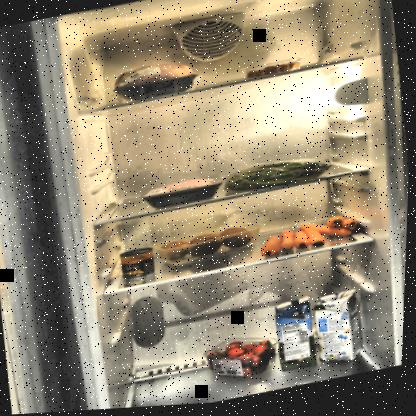carrot: (256, 212, 370, 264)
chicken: (108, 55, 204, 108)
corn: (120, 247, 160, 283)
green_beans: (223, 154, 338, 199)
ground_beef: (139, 175, 227, 214)
milk: (313, 291, 372, 372), (275, 299, 324, 377)
potato: (156, 225, 260, 271)
shrimp: (245, 61, 302, 83)
strawberries: (202, 330, 284, 389)
